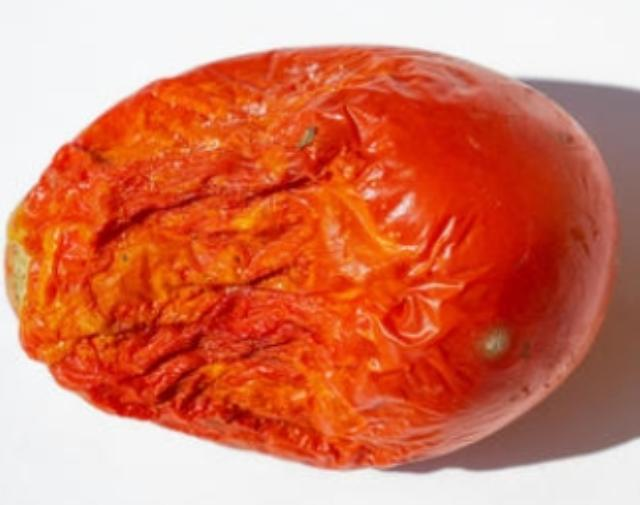defect: (6, 41, 620, 471)
